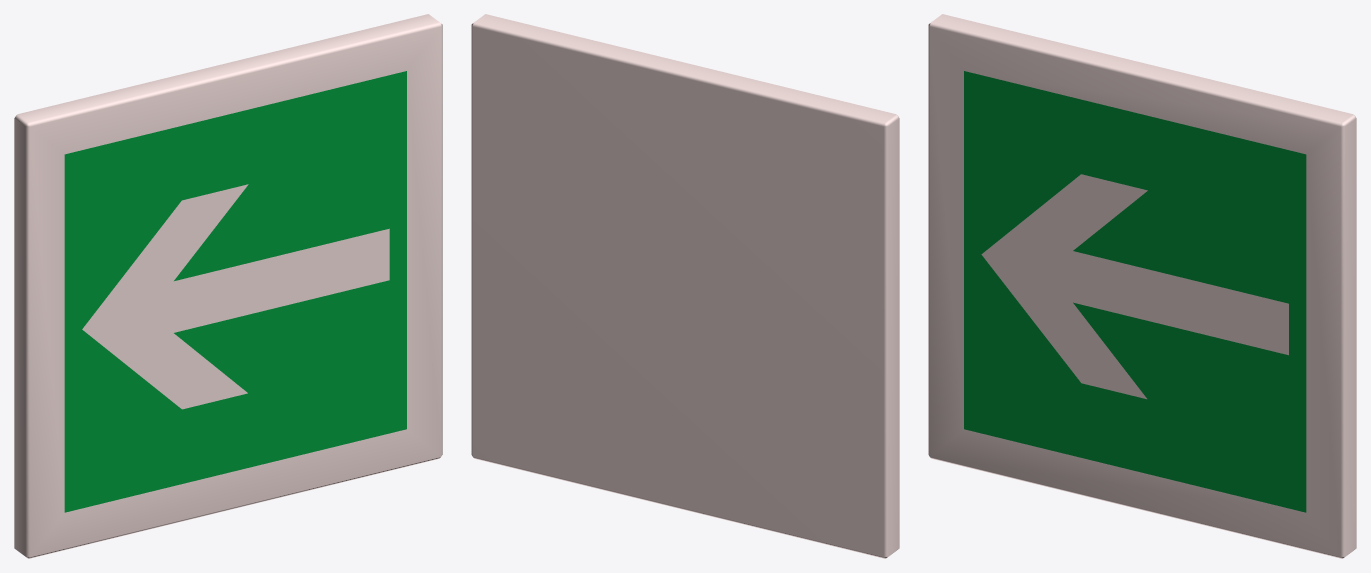
File: City_13_Arrow_Sign_1.glb
3 views of the same model, side by side, from view 1: azimuth 30°, elevation 25°; view 2: azimuth 150°, elevation 25°; view 3: azimuth 330°, elevation 25° (orthographic).
Parts seen in each view (by area): view 1: City_13_Arrow_Sign_1; view 2: City_13_Arrow_Sign_1; view 3: City_13_Arrow_Sign_1.
Boxes of the visible parts, x1=… form: City_13_Arrow_Sign_1: x1=14, y1=14, x2=442, y2=558; City_13_Arrow_Sign_1: x1=471, y1=14, x2=899, y2=558; City_13_Arrow_Sign_1: x1=928, y1=14, x2=1356, y2=558.
Size of the model in its own units: 0.3554 by 0.3554 by 0.0216.
Materials: 1 (1 with a texture image).
